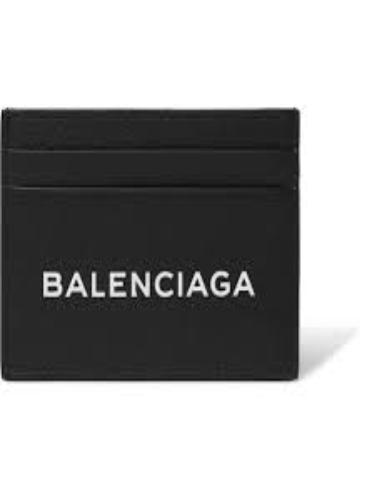BALENCIAGA: (43, 262, 255, 297)
